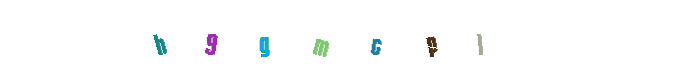9: (209, 0, 289, 80)
C: (298, 0, 378, 80)
G: (224, 0, 304, 80)
H: (171, 0, 251, 80)
L: (381, 0, 461, 80)
M: (272, 0, 352, 80)
P: (337, 0, 417, 80)
